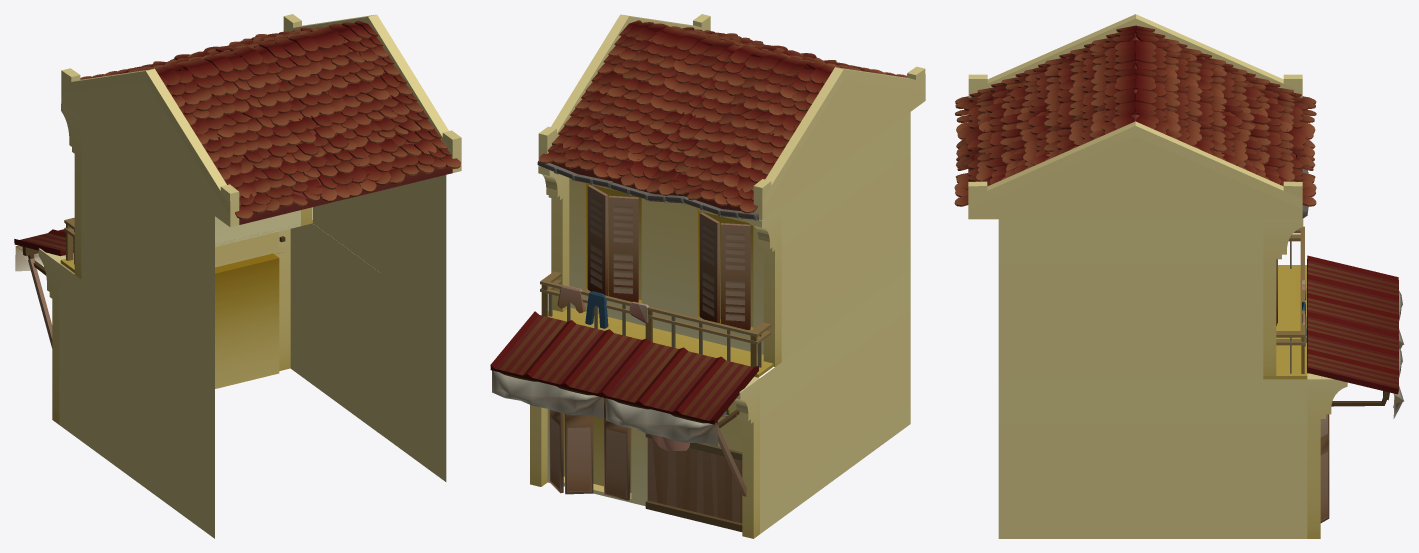
Rendered from SM_FacadeOldQuarter_Double_01.fbx.
The picture shows the model from 3 angles, left to right: view 1: azimuth 30°, elevation 25°; view 2: azimuth 150°, elevation 25°; view 3: azimuth 270°, elevation 25°; orthographic projection. The views are drawn at different scales.
Visible parts, largest first — view 1: SM_FacadeOldQuarter_Double_01.001; view 2: SM_FacadeOldQuarter_Double_01.001; view 3: SM_FacadeOldQuarter_Double_01.001.
Part boxes in pixels (<box>): SM_FacadeOldQuarter_Double_01.001: <box>14,14,461,538</box>; SM_FacadeOldQuarter_Double_01.001: <box>490,14,925,538</box>; SM_FacadeOldQuarter_Double_01.001: <box>954,14,1404,538</box>.
Size of the model in its own units: 605 by 1035 by 1021.
